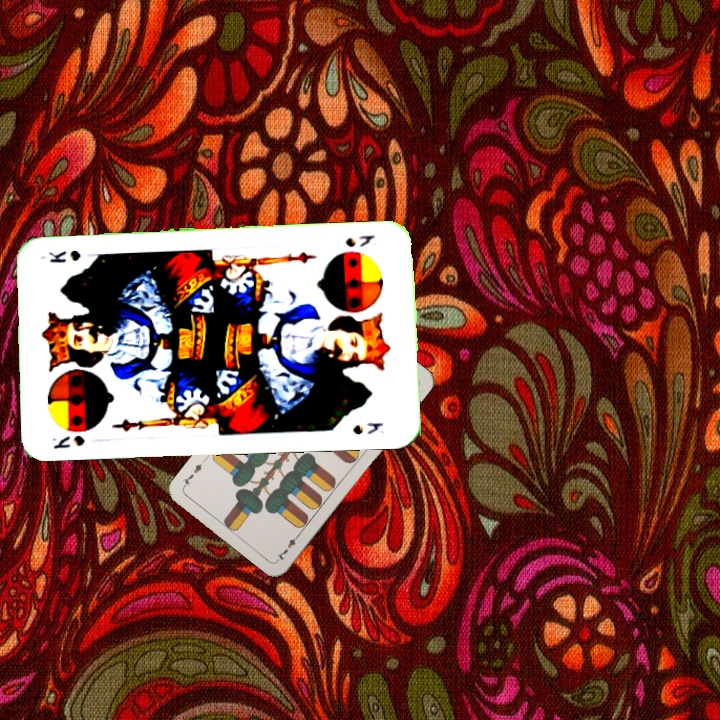E7: (273, 529, 303, 563)
SK: (48, 431, 87, 451), (341, 231, 378, 250)
